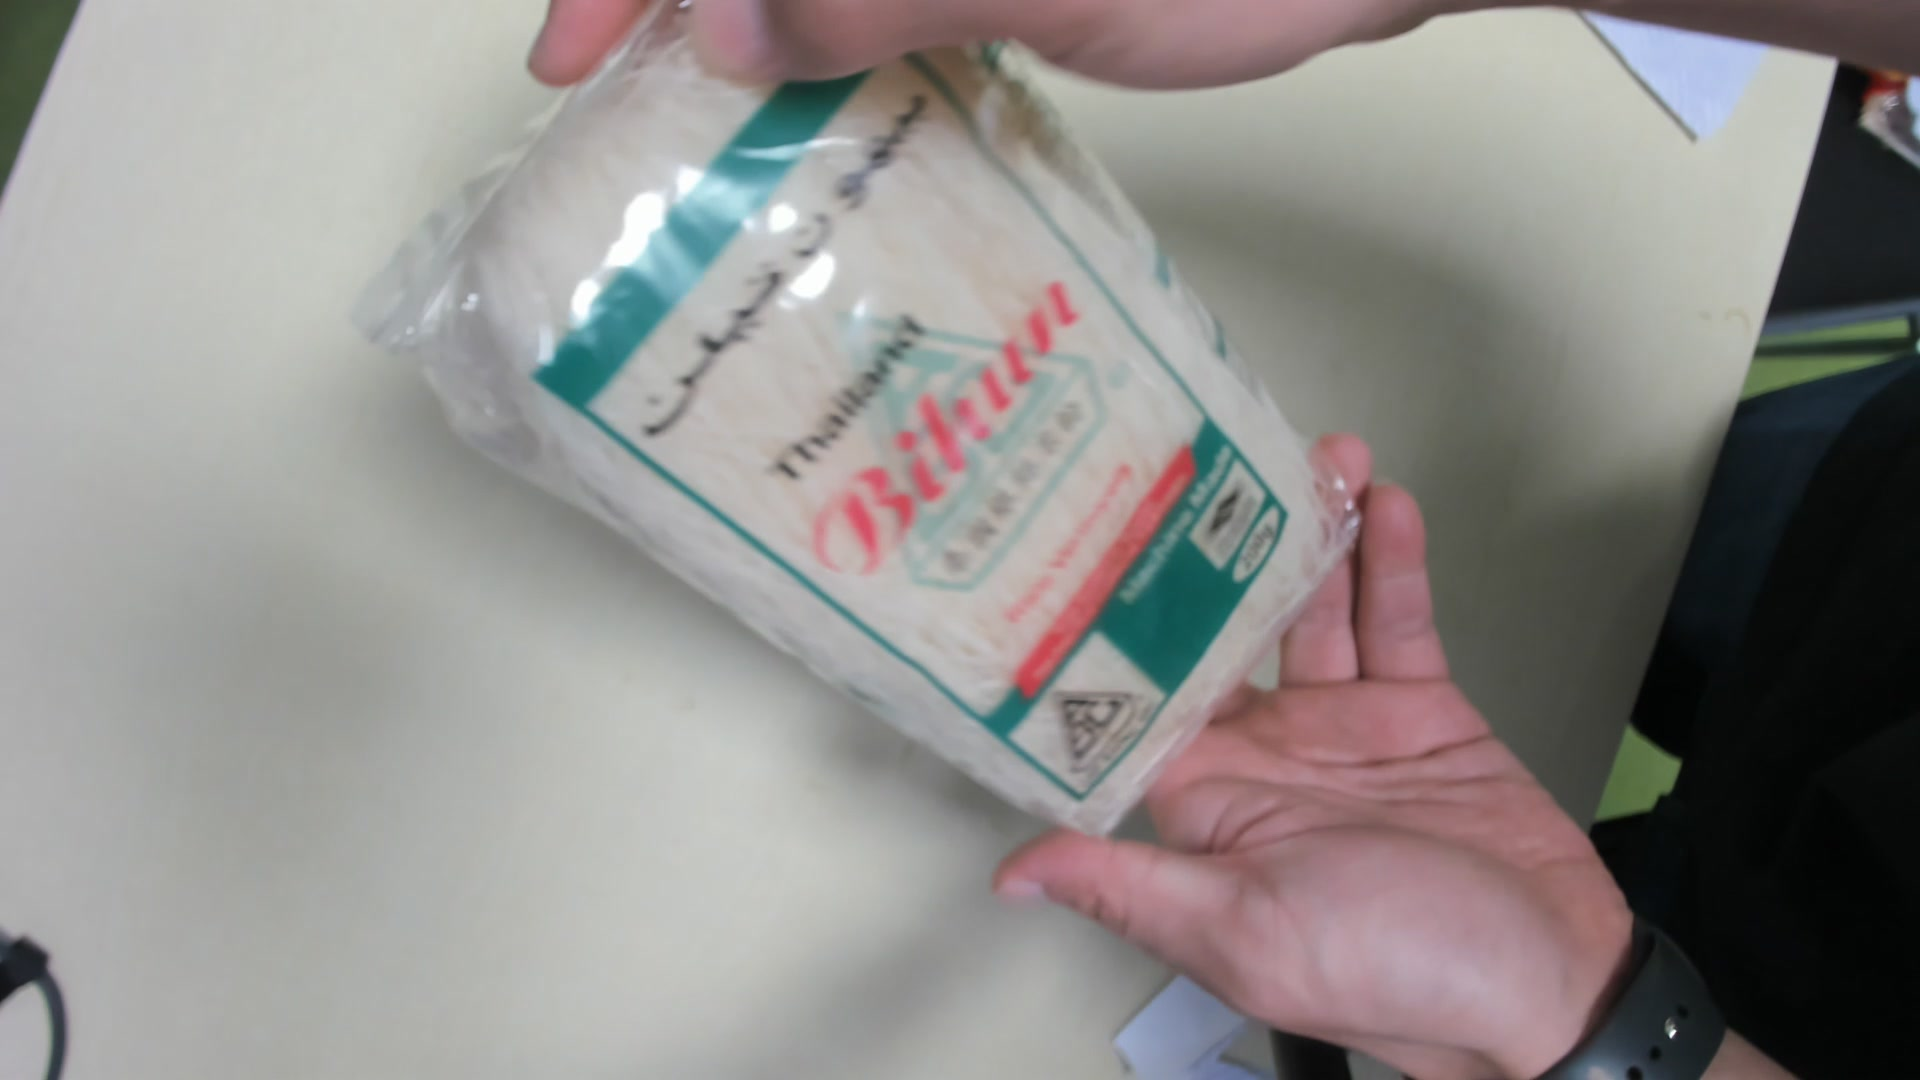BeeHoonVermicelli_200-299g_Halal_NonHealthy: (377, 8, 1383, 847)
